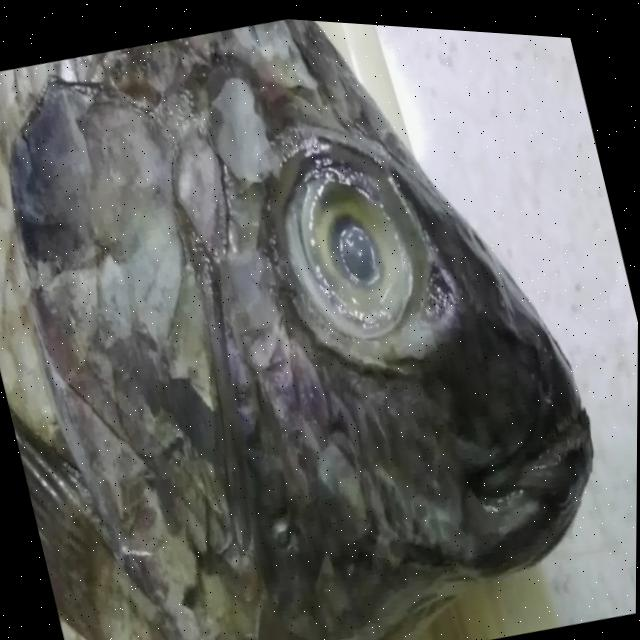Non-Fresh: (263, 130, 448, 369)
